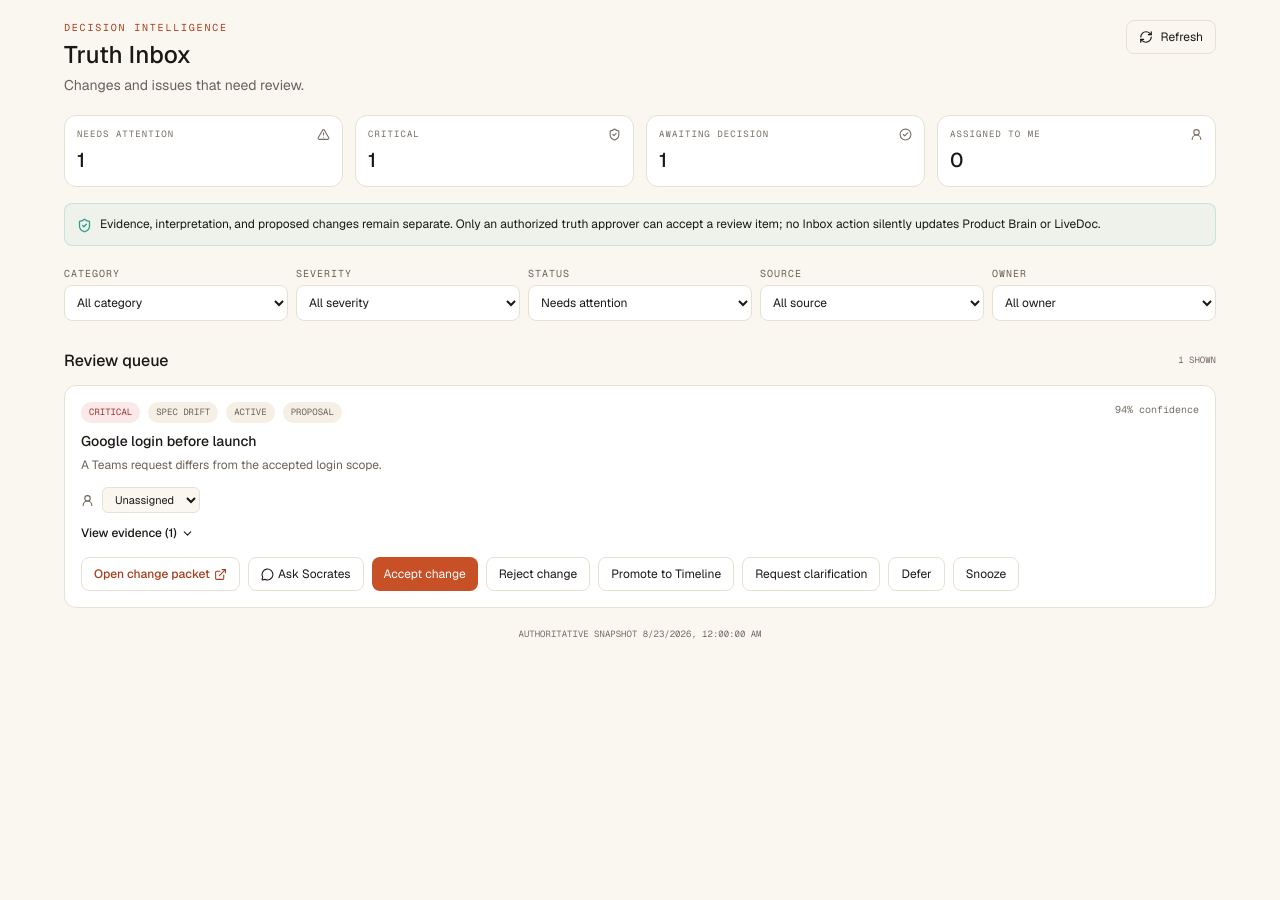
TruthInboxPage › shows the unified authoritative queue without changing the existing visual language
Expected: the heading "Truth Inbox" is shown, [64,39,191,70]
Expected: the heading "Google login before launch" is shown, [81,432,256,450]
Click the heading "View evidence (1)" at (137, 533), box [81,525,194,541]
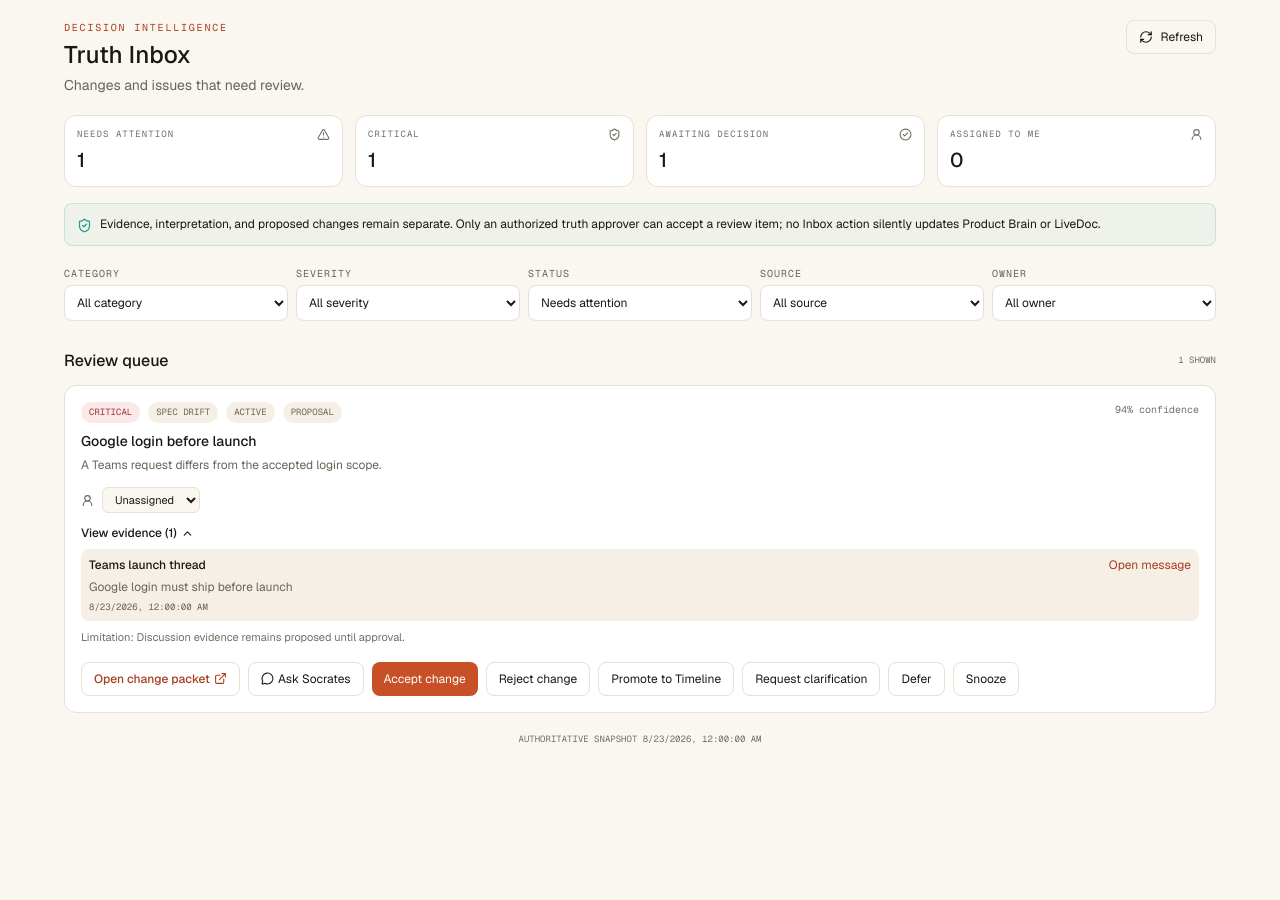
Expected: the text "Google login must ship before launch" is shown, [89,579,293,595]
